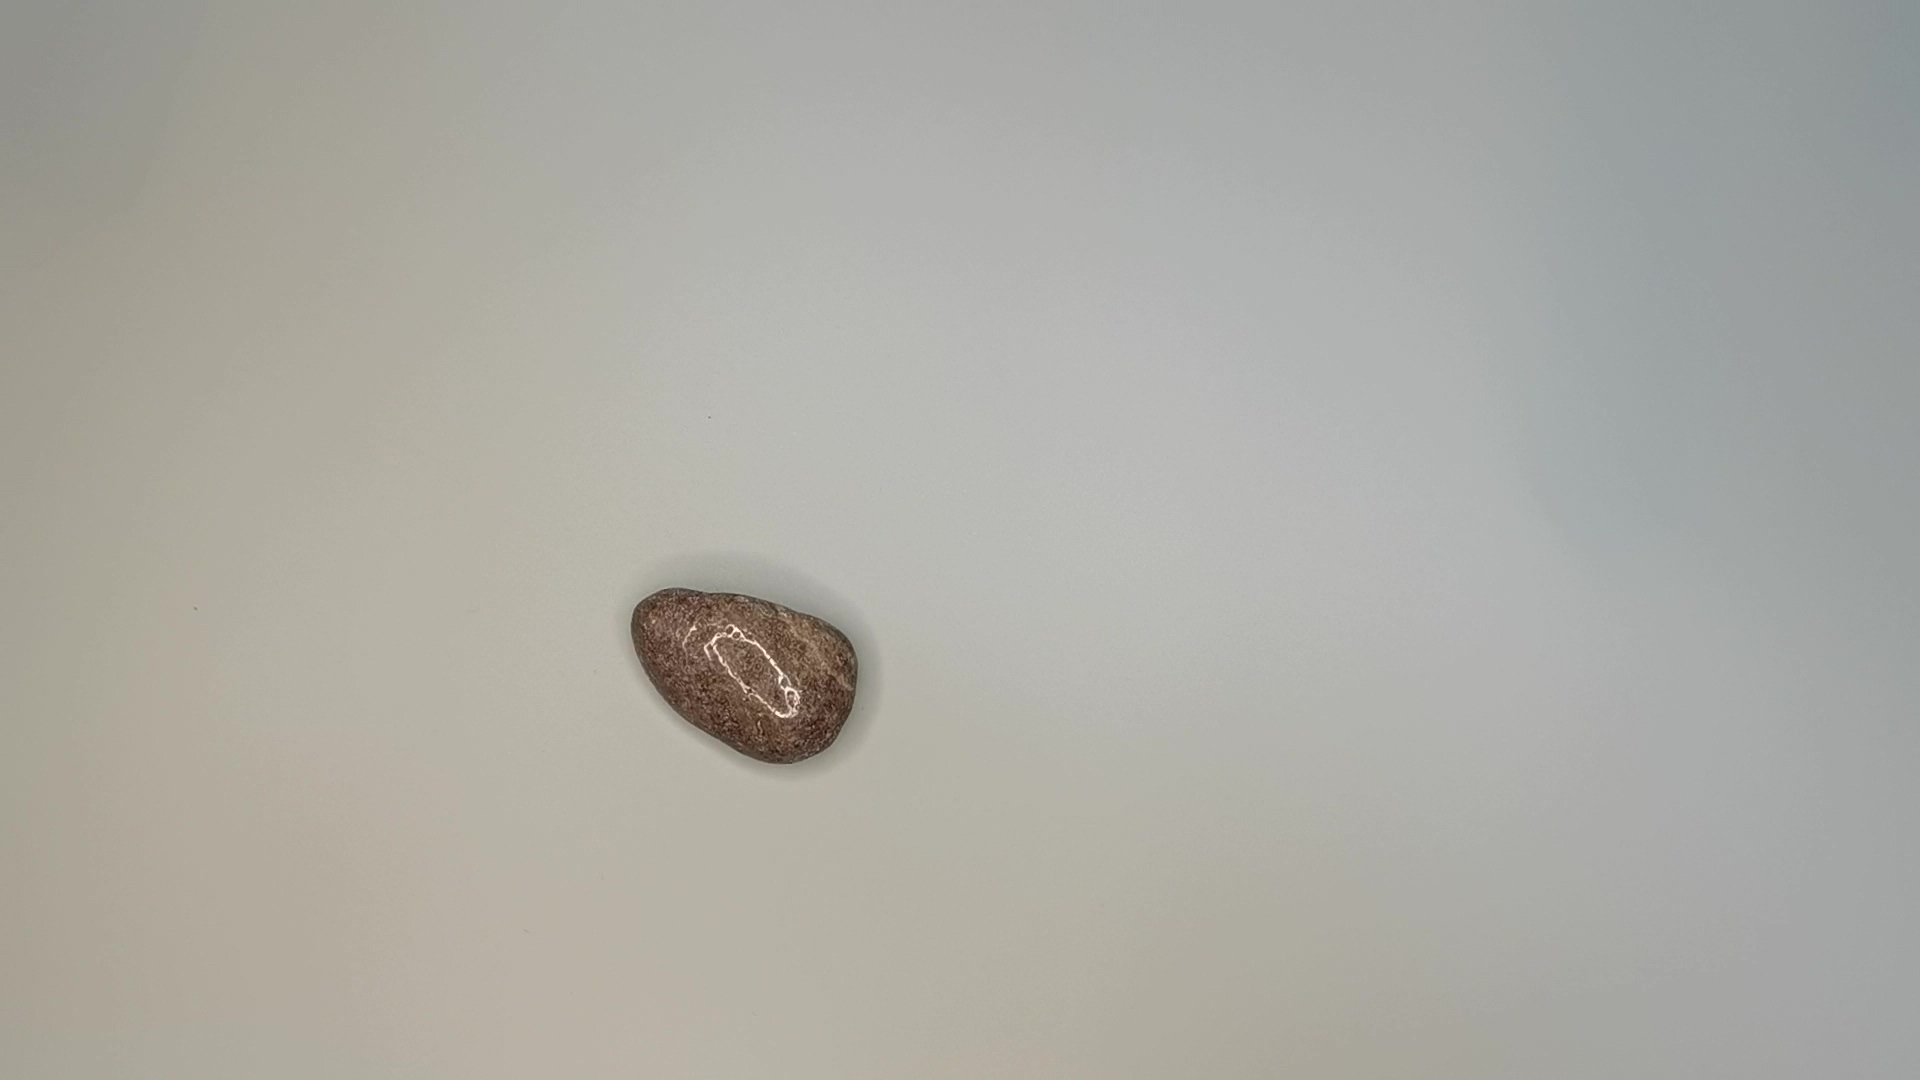ceramic: (622, 585, 866, 775)
